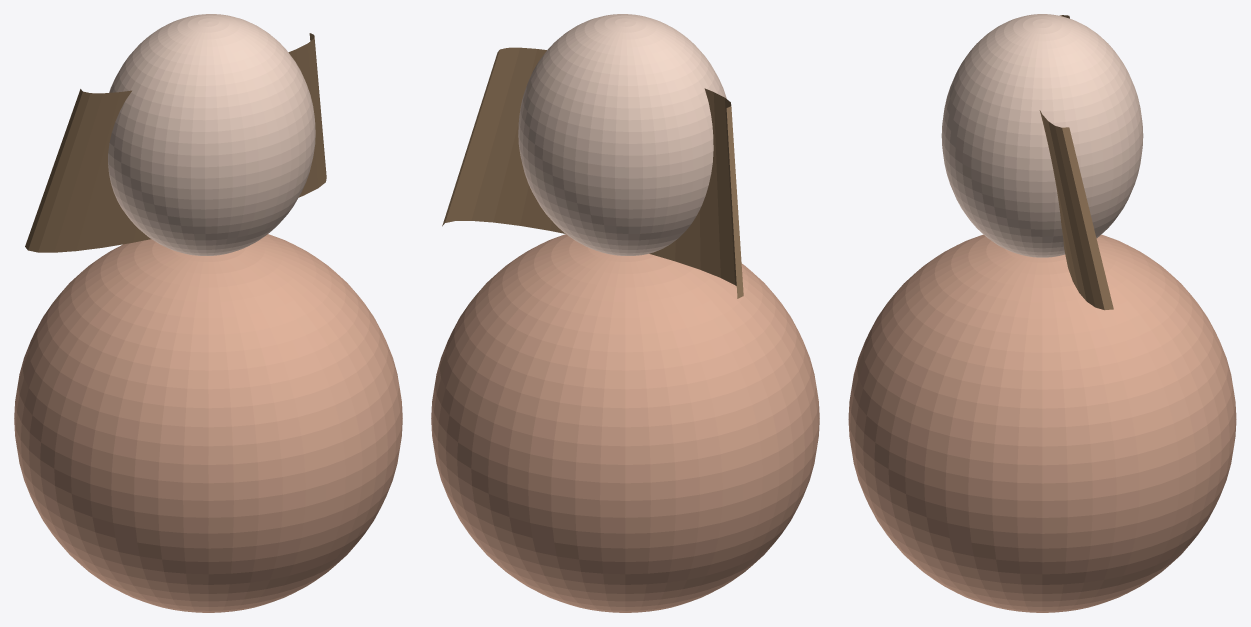
The model's file is reference_scene.glb.
The picture shows the model from 3 angles, left to right: view 1: azimuth 30°, elevation 25°; view 2: azimuth 150°, elevation 25°; view 3: azimuth 270°, elevation 25°; orthographic projection.
Parts seen in each view (by area): view 1: FixtureBody, FixtureHead, FixtureHairCard; view 2: FixtureBody, FixtureHead, FixtureHairCard; view 3: FixtureBody, FixtureHead, FixtureHairCard.
Boxes of the visible parts, <box> form: FixtureBody: <box>14,234,402,612</box>; FixtureHead: <box>108,14,315,255</box>; FixtureHairCard: <box>25,33,326,252</box>; FixtureBody: <box>431,234,819,612</box>; FixtureHead: <box>518,14,726,255</box>; FixtureHairCard: <box>442,47,743,298</box>; FixtureBody: <box>848,234,1236,612</box>; FixtureHead: <box>941,14,1143,257</box>; FixtureHairCard: <box>1039,15,1113,310</box>.
Size of what is drawn, in the model's own units: 1.8 by 2.93 by 1.8.
